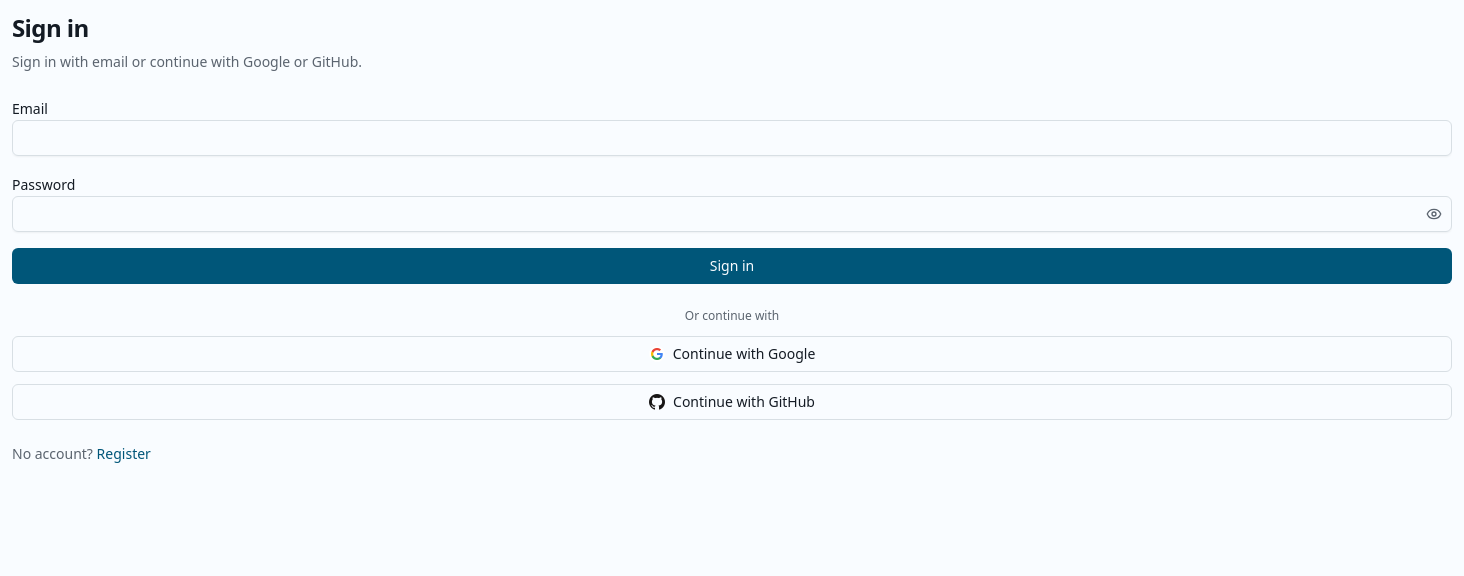
Test: LoginPage › surfaces Email not confirmed via formatApiError
Type "a@example.com" into the field labelled "Email". click: (732,138)
box: [12, 120, 1452, 156]
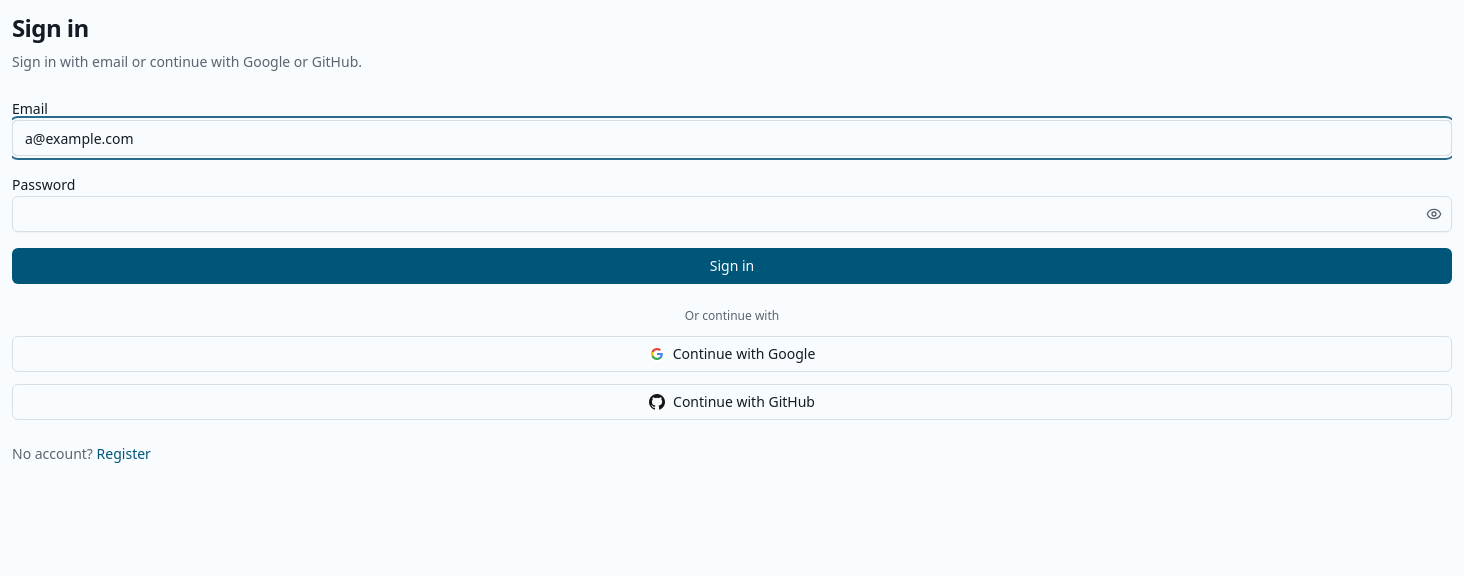
Type "SecurePass1!" into the password field labelled "Password". click: (732,214)
box: [12, 196, 1452, 232]
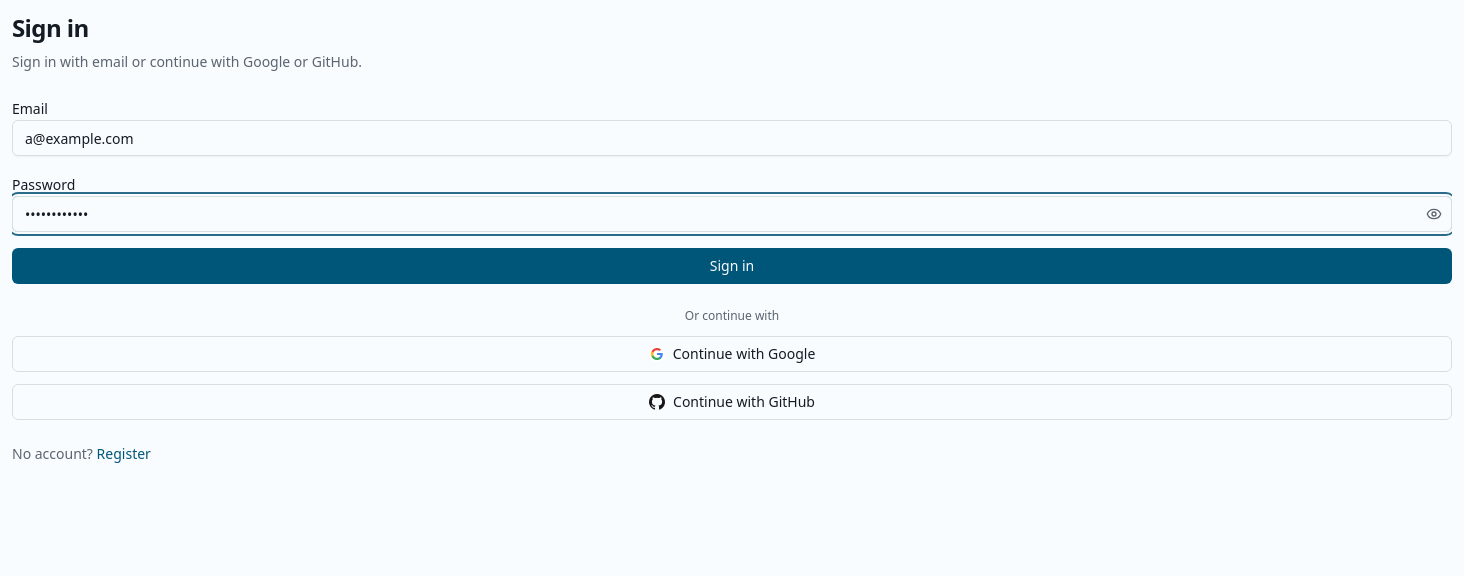
Click the button "Sign in". click: (732,266)
box: [12, 248, 1452, 284]
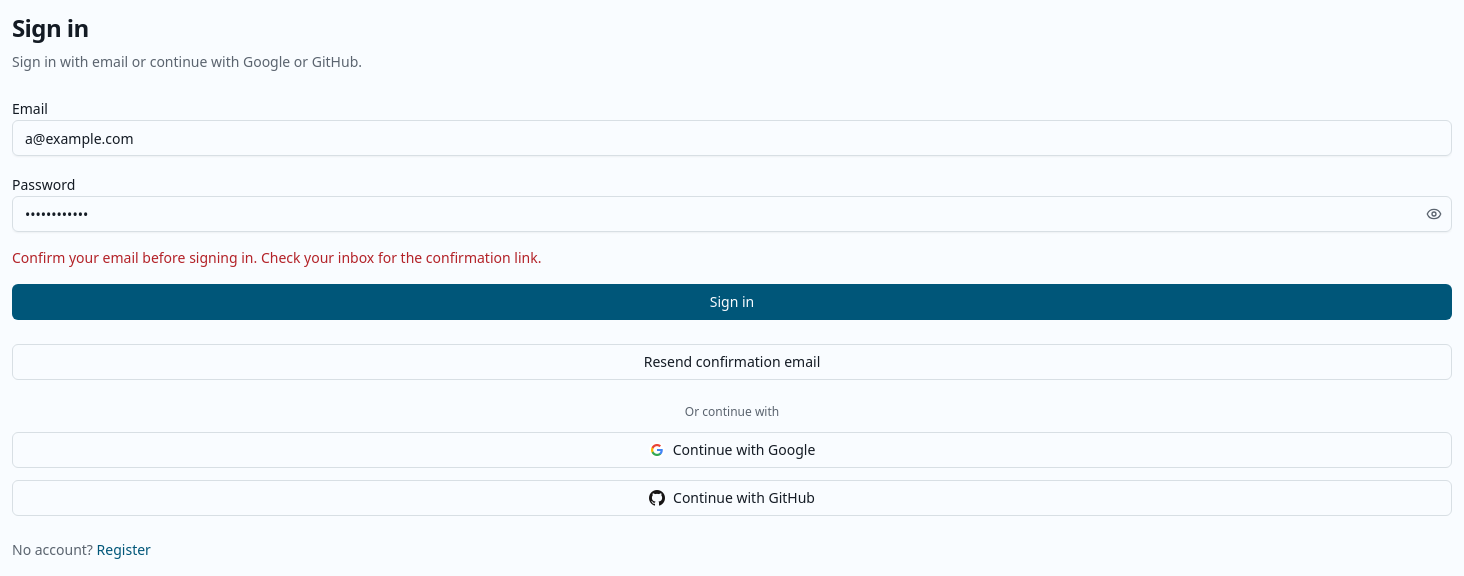
Expected: the message shows "Confirm your email", [12, 248, 541, 267]
Expected: the button "Resend confirmation email" is shown, [12, 344, 1452, 380]
